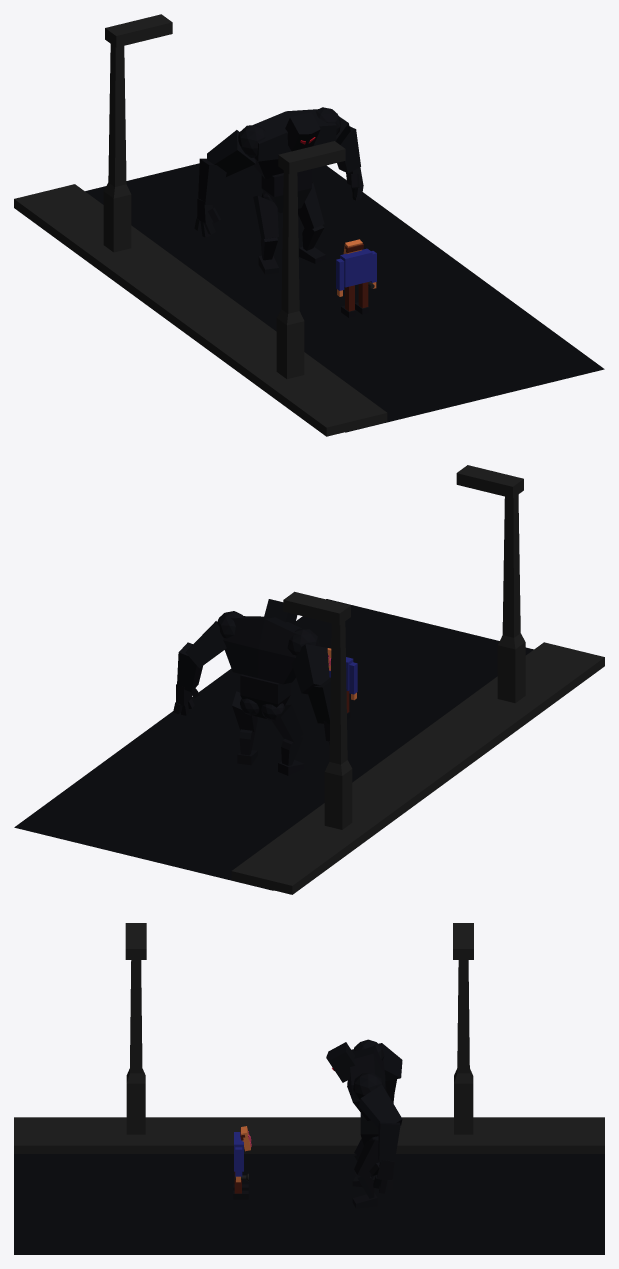
Rendered from street_scene.obj.
The picture shows the model from 3 angles, top to bottom: view 1: azimuth 30°, elevation 25°; view 2: azimuth 150°, elevation 25°; view 3: azimuth 270°, elevation 25°; orthographic projection. The views are drawn at different scales.
Visible parts, largest first — view 1: Plane, Cube.024, Cube.026, Cube.028, Cube.015, Cube.017, Cube.012, Cube.027, Cube.029, Cube.016, Cube.011, Cube.023 (+4 smaller); view 2: Plane, Cube.024, Cube.028, Cube.026, Cube.015, Cube.016, Cube.017, Cube.027, Cube.029, Cube.011, Cube.012, Icosphere.001 (+1 smaller); view 3: Plane, Cube.024, Cube.026, Cube.028, Cube.016, Cube.015, Cube.017, Cube.027, Icosphere.001, Cube.029, Cube.023, Cube.012.
Boxes of the visible parts, bbox=[...] form: Plane: bbox=[85, 163, 604, 432]; Cube.024: bbox=[14, 184, 387, 436]; Cube.026: bbox=[276, 170, 304, 378]; Cube.028: bbox=[103, 44, 131, 252]; Cube.015: bbox=[253, 109, 336, 179]; Cube.017: bbox=[198, 126, 360, 204]; Cube.012: bbox=[253, 182, 324, 239]; Cube.027: bbox=[278, 141, 345, 174]; Cube.029: bbox=[105, 14, 172, 47]; Cube.016: bbox=[207, 116, 350, 176]; Cube.011: bbox=[261, 169, 311, 213]; Cube.023: bbox=[285, 112, 320, 151]; Plane: bbox=[14, 599, 533, 890]; Cube.024: bbox=[231, 642, 604, 894]; Cube.028: bbox=[324, 621, 352, 829]; Cube.026: bbox=[497, 494, 525, 703]; Cube.015: bbox=[223, 616, 301, 684]; Cube.016: bbox=[185, 621, 329, 694]; Cube.017: bbox=[177, 642, 330, 724]; Cube.027: bbox=[456, 465, 523, 498]; Cube.029: bbox=[283, 591, 350, 625]; Cube.011: bbox=[240, 674, 290, 718]; Cube.012: bbox=[232, 691, 303, 743]; Icosphere.001: bbox=[217, 611, 319, 655]; Plane: bbox=[14, 1154, 604, 1254]; Cube.024: bbox=[14, 1117, 604, 1153]; Cube.026: bbox=[126, 960, 145, 1134]; Cube.028: bbox=[454, 960, 473, 1134]; Cube.016: bbox=[359, 1043, 402, 1127]; Cube.015: bbox=[347, 1045, 386, 1120]; Cube.017: bbox=[378, 1079, 400, 1162]; Cube.027: bbox=[125, 923, 146, 959]; Icosphere.001: bbox=[353, 1039, 384, 1100]; Cube.029: bbox=[453, 923, 473, 959]; Cube.023: bbox=[326, 1042, 355, 1082]; Cube.012: bbox=[354, 1138, 379, 1179].
Bounding box in the file's own units: 7.21 × 5.59 × 14.02.
